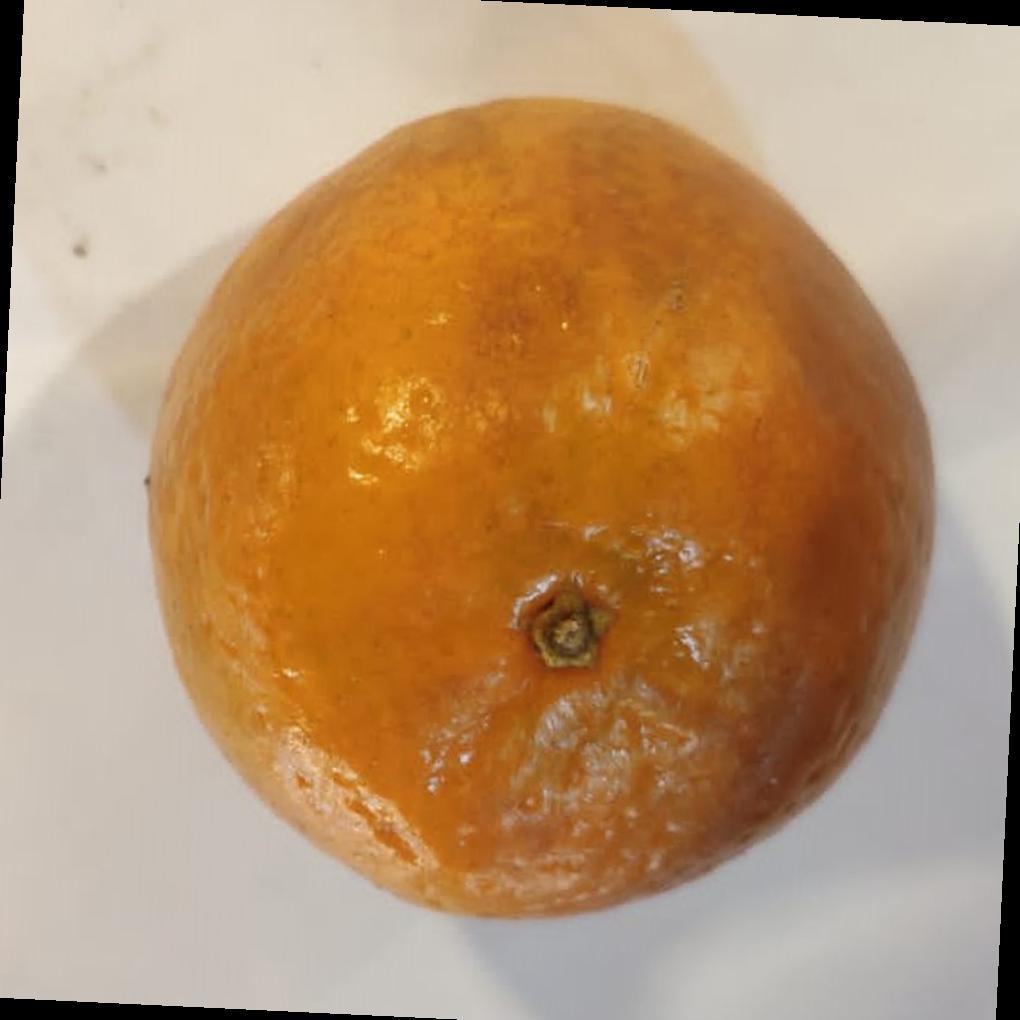FreshOrange: (143, 97, 939, 926)
